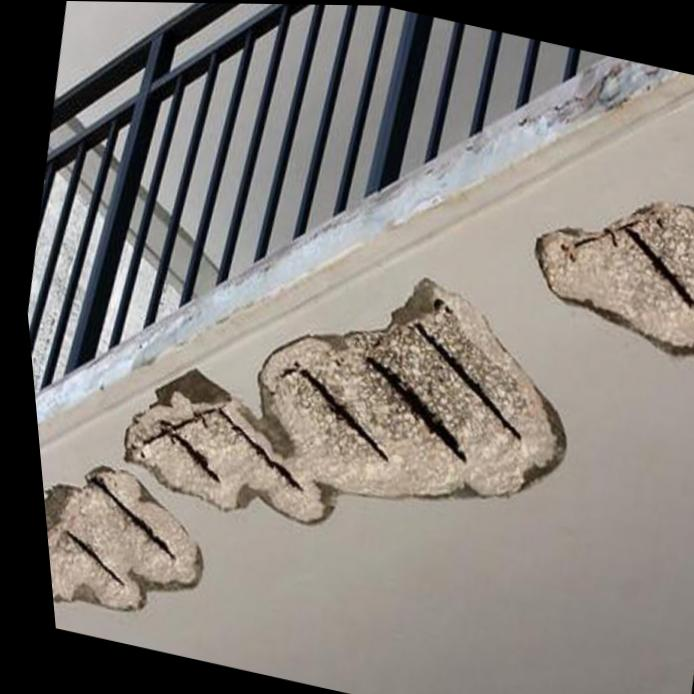damage: (114, 277, 557, 523), (531, 200, 694, 352), (35, 467, 190, 610)
